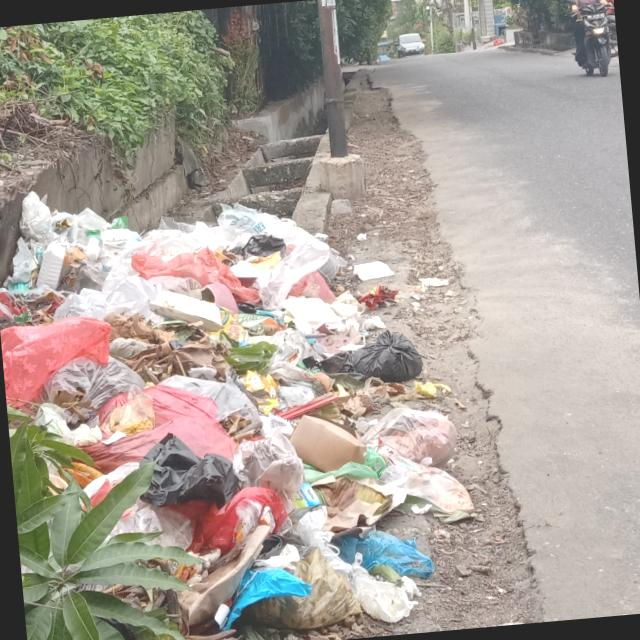garbage: (0, 171, 483, 640)
